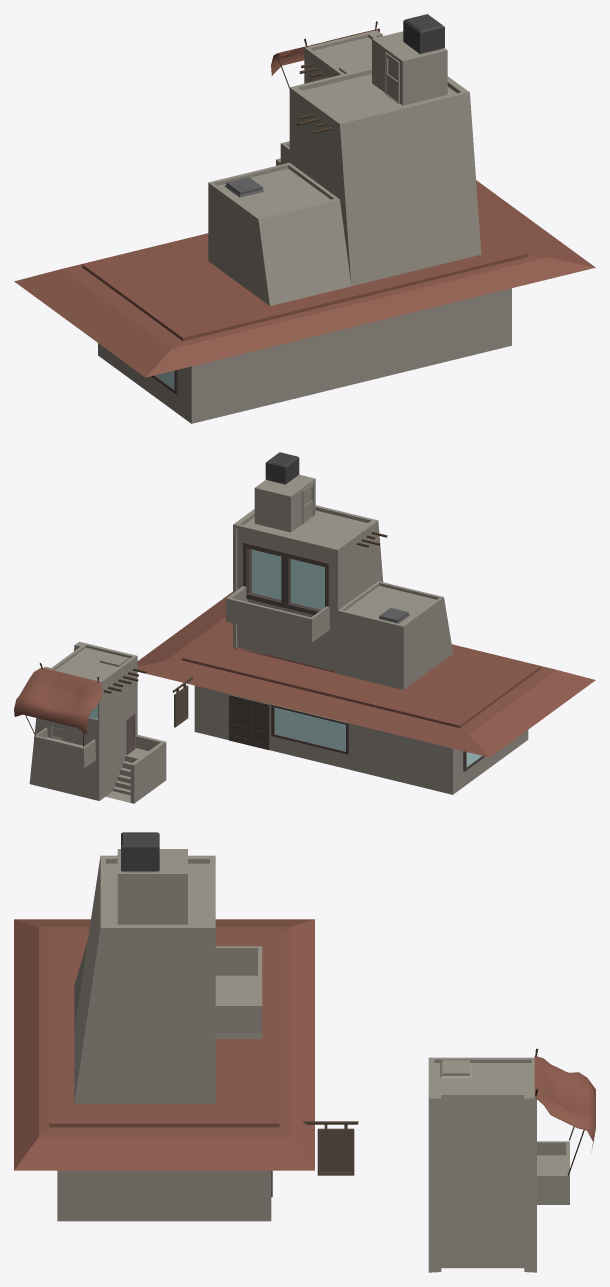
The model's file is Desert buildings_kleur.fbx.
3 renders of one model, top to bottom at view 1: azimuth 30°, elevation 25°; view 2: azimuth 150°, elevation 25°; view 3: azimuth 270°, elevation 25°, orthographic. The views are drawn at different scales.
Visible parts, largest first — view 1: polySurface167, polySurface158; view 2: polySurface167, polySurface158; view 3: polySurface167, polySurface158.
Part boxes in pixels (<box>): polySurface167: <box>14,14,595,423</box>; polySurface158: <box>271,21,382,165</box>; polySurface167: <box>137,452,595,794</box>; polySurface158: <box>14,641,166,803</box>; polySurface167: <box>14,832,358,1221</box>; polySurface158: <box>428,1048,595,1272</box>.
Bounding box in the file's own units: 87.31 × 54.73 × 81.13.
